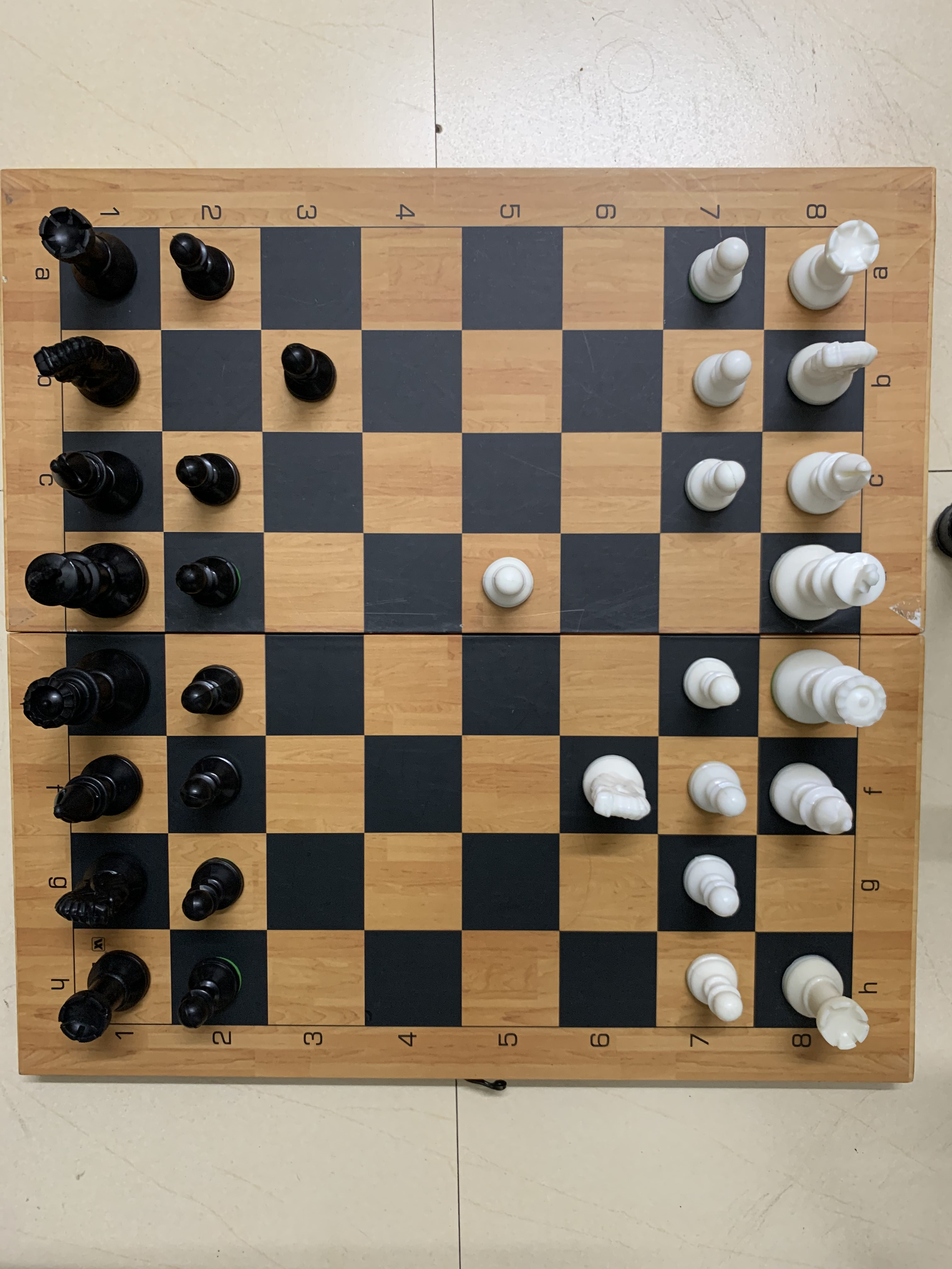black_bishop: (41, 743, 159, 837), (35, 435, 144, 528)
black_king: (20, 532, 147, 625)
black_knight: (28, 324, 156, 419), (60, 839, 156, 939)
black_pawn: (168, 833, 271, 931), (161, 535, 256, 628), (164, 644, 260, 735), (161, 222, 251, 319), (261, 329, 360, 415), (159, 441, 258, 519), (167, 952, 255, 1033), (170, 746, 261, 824)
black_queen: (22, 638, 154, 737)
black_rook: (41, 946, 167, 1041), (33, 200, 133, 309)
white_bishop: (767, 742, 880, 853), (771, 433, 885, 535)
white_king: (765, 537, 898, 625)
white_knight: (778, 323, 877, 415), (564, 745, 658, 833)
white_pawn: (674, 227, 774, 320), (667, 937, 756, 1027), (463, 543, 556, 625), (683, 331, 764, 422), (669, 738, 751, 825), (671, 438, 752, 523), (667, 845, 752, 921), (674, 642, 746, 720)
white_queen: (763, 638, 895, 741)
white_rook: (763, 932, 882, 1060), (784, 217, 887, 322)
